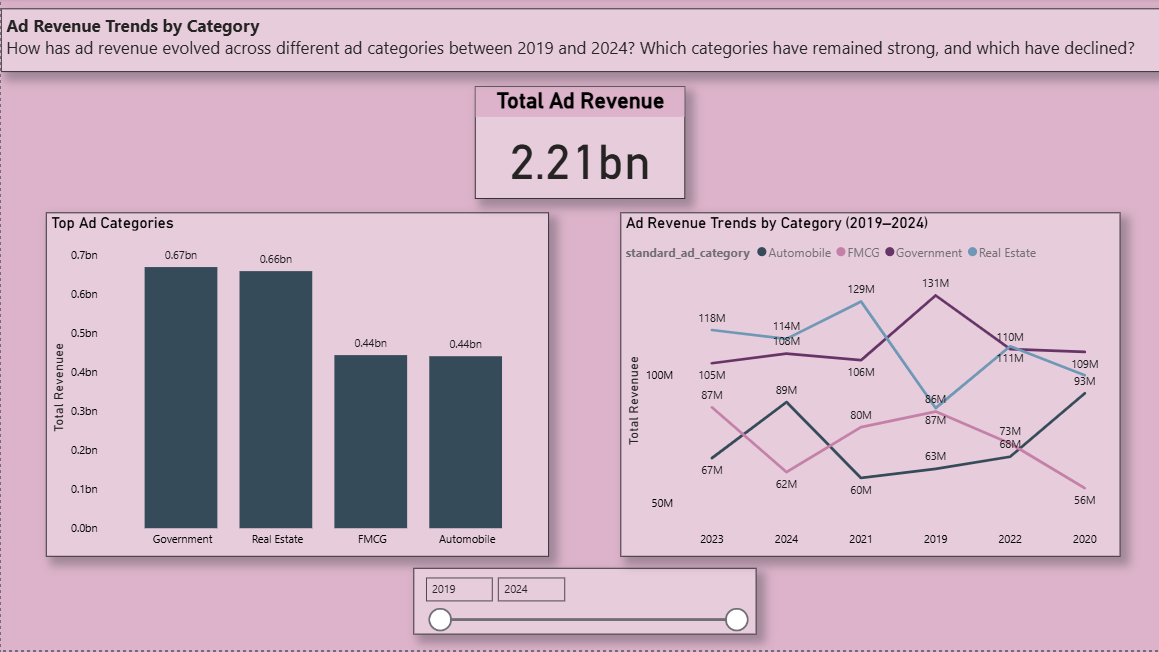

The page's visual inventory and layout, read from the dashboard file:
{"tool":"powerbi","page":{"name":"Ad Revenue Trends by Category","canvas":[1280,720],"ordinal":3},"visuals":[{"type":"columnChart","title":"Top Ad Categories","fields":{"Y":["Key Measures.Total Revenuee"],"Category":["dim_ad_category.standard_ad_category"]},"box":[50,236.7,555,380],"z":0},{"type":"card","title":"Total Ad Revenue","fields":{"Values":["Key Measures.Total Revenue"]},"box":[523.4,97.7,231.9,124.2],"z":1000},{"type":"textbox","box":[0,11.7,1280,70],"z":5000},{"type":"lineChart","title":"Ad Revenue Trends by Category (2019–2024)","fields":{"Category":["fact_ad_revenue (2).Yearr"],"Y":["Key Measures.Total Revenuee"],"Series":["dim_ad_category.standard_ad_category"]},"box":[683.3,236.7,551.7,380],"z":6000}]}

Visuals, with their boxes in screenshot pixels (x1, y1, x2, y2), scaled from the page's 1280x720 canvas onto the 1159x652 screenshot:
"Top Ad Categories" columnChart: bbox=(45, 214, 548, 558)
"Total Ad Revenue" card: bbox=(474, 88, 684, 201)
textbox: bbox=(0, 11, 1158, 74)
"Ad Revenue Trends by Category (2019–2024)" lineChart: bbox=(619, 214, 1118, 558)
